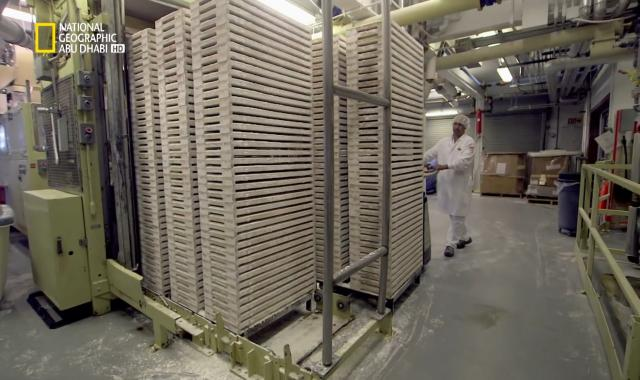hairnet: (454, 112, 471, 130)
